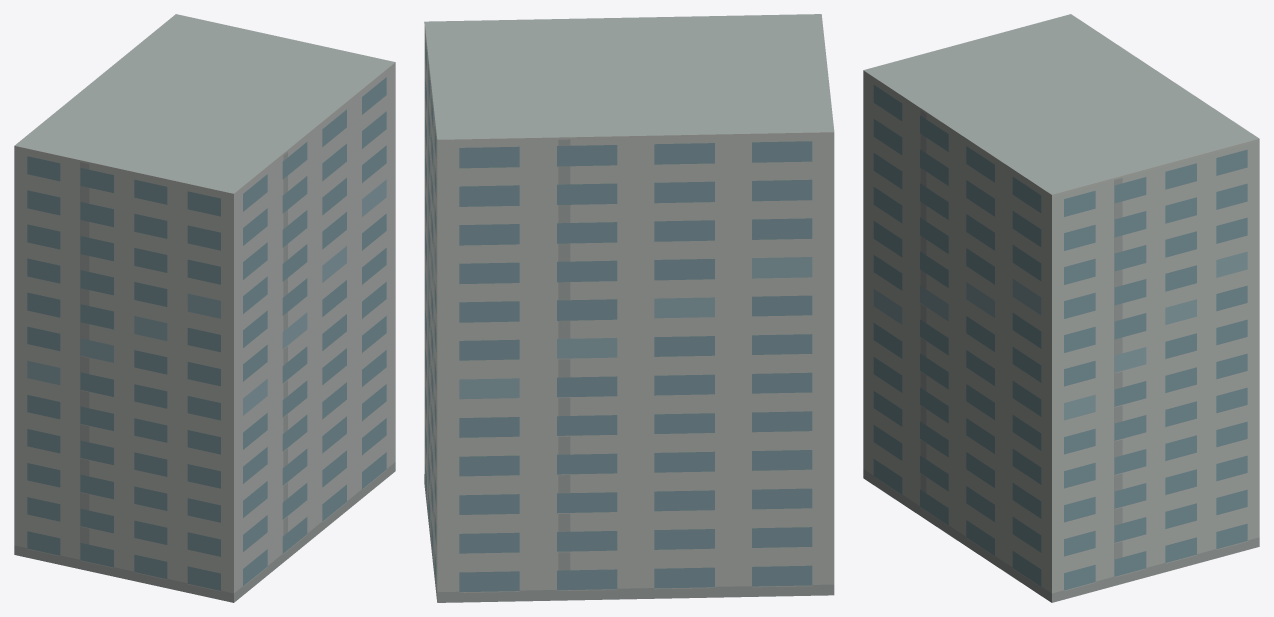
File: residential-d2e5280d-a7b8-42bd-8d7f-ec15d7b7de4a.glb
The picture shows the model from 3 angles, left to right: view 1: azimuth 30°, elevation 25°; view 2: azimuth 150°, elevation 25°; view 3: azimuth 270°, elevation 25°; orthographic projection. The views are drawn at different scales.
Visible parts, largest first — view 1: residential-d2e5280d-a7b8-42bd-8d7f-ec15d7b7de4a.tmp; view 2: residential-d2e5280d-a7b8-42bd-8d7f-ec15d7b7de4a.tmp; view 3: residential-d2e5280d-a7b8-42bd-8d7f-ec15d7b7de4a.tmp.
Boxes of the visible parts, box(x1,y1,x2,y2) form: residential-d2e5280d-a7b8-42bd-8d7f-ec15d7b7de4a.tmp: box(14, 14, 395, 602); residential-d2e5280d-a7b8-42bd-8d7f-ec15d7b7de4a.tmp: box(424, 14, 834, 602); residential-d2e5280d-a7b8-42bd-8d7f-ec15d7b7de4a.tmp: box(863, 14, 1259, 602).
Bounding box in the file's own units: 49.45 × 52 × 45.81.
